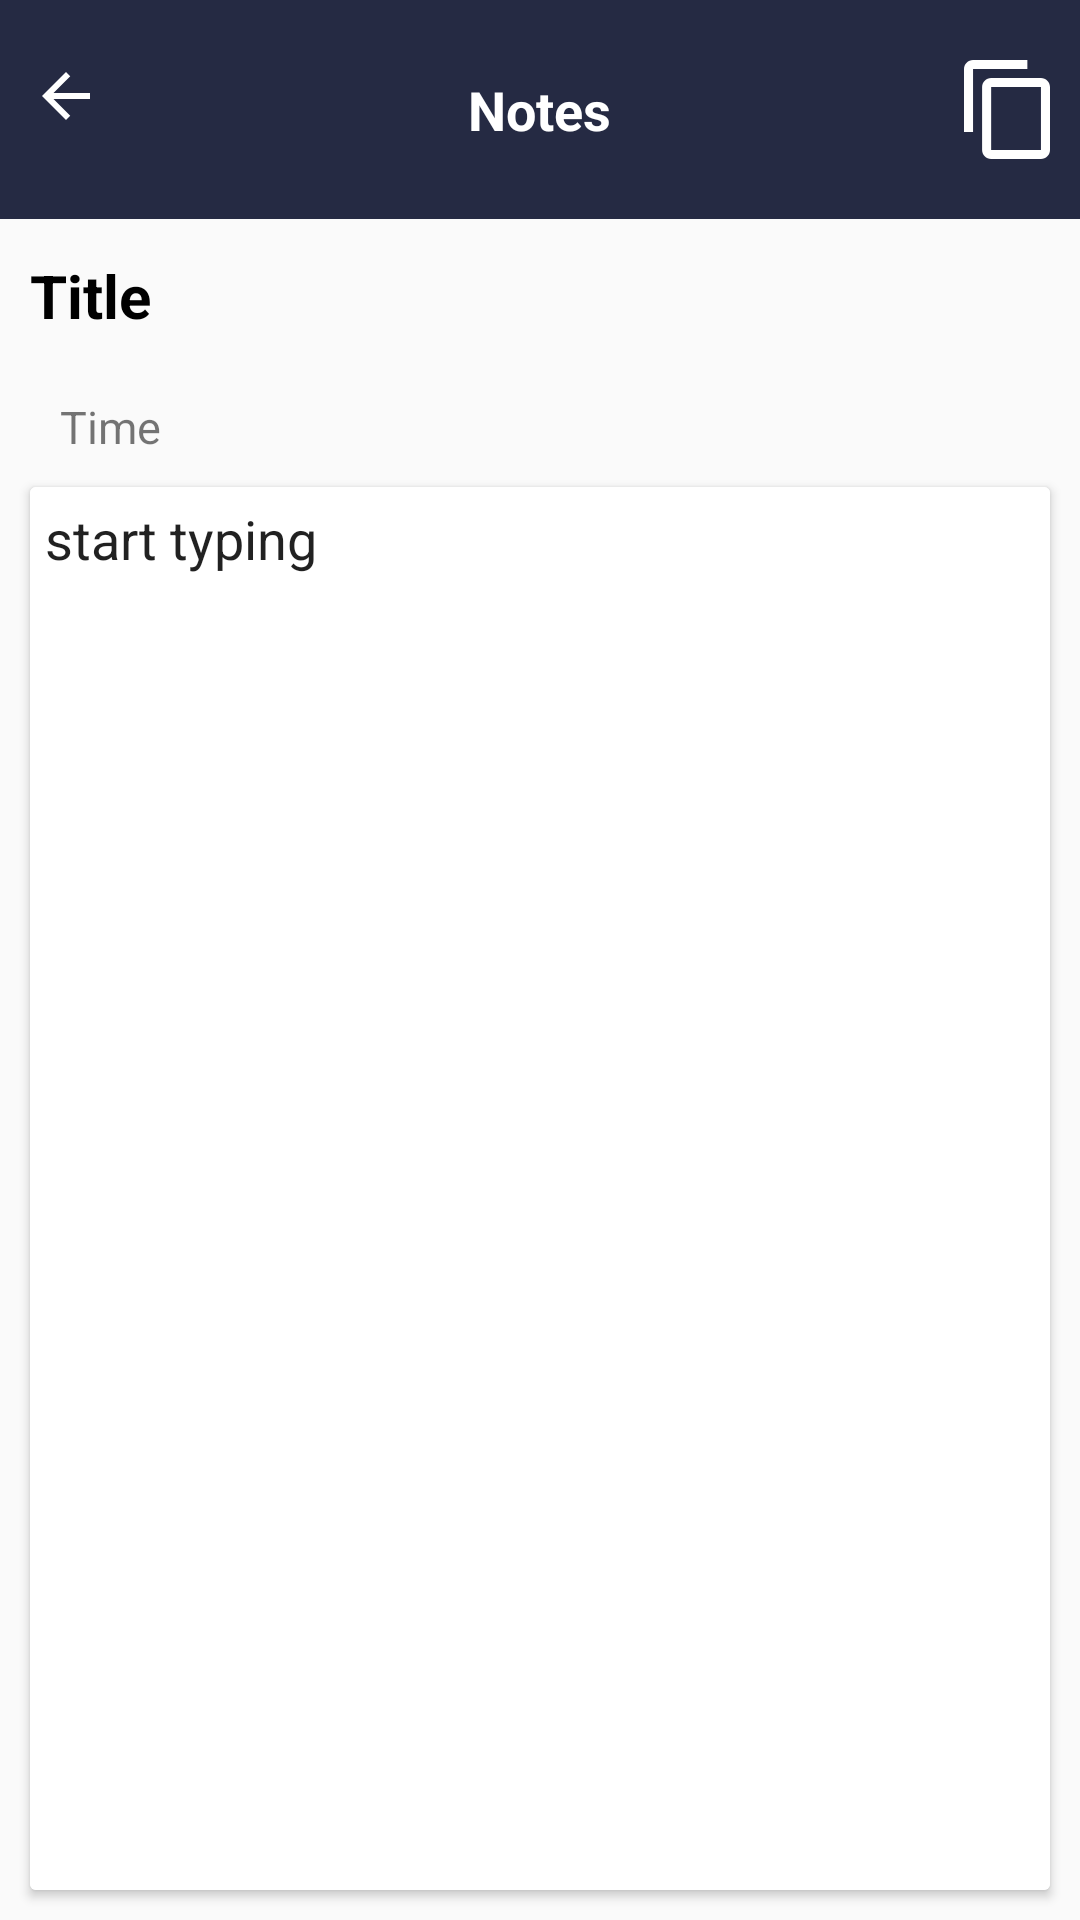

Locate icon controls on the screen. Image size 1080px×1920px, boxes as (x1, y1, x2, y2).
arrow back: (42, 72, 90, 120)
